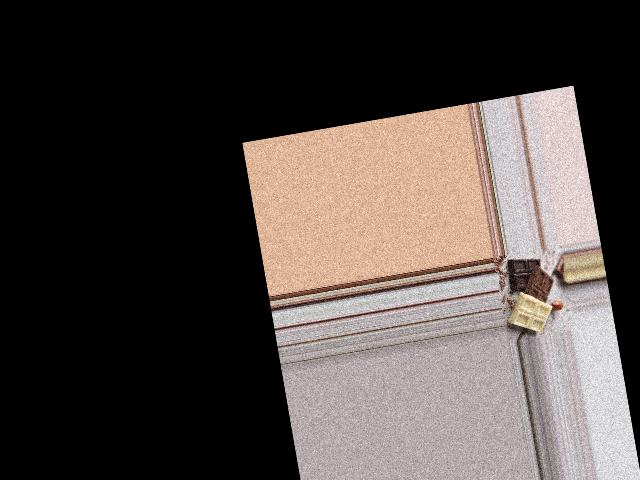chocolate: (501, 249, 562, 336)
